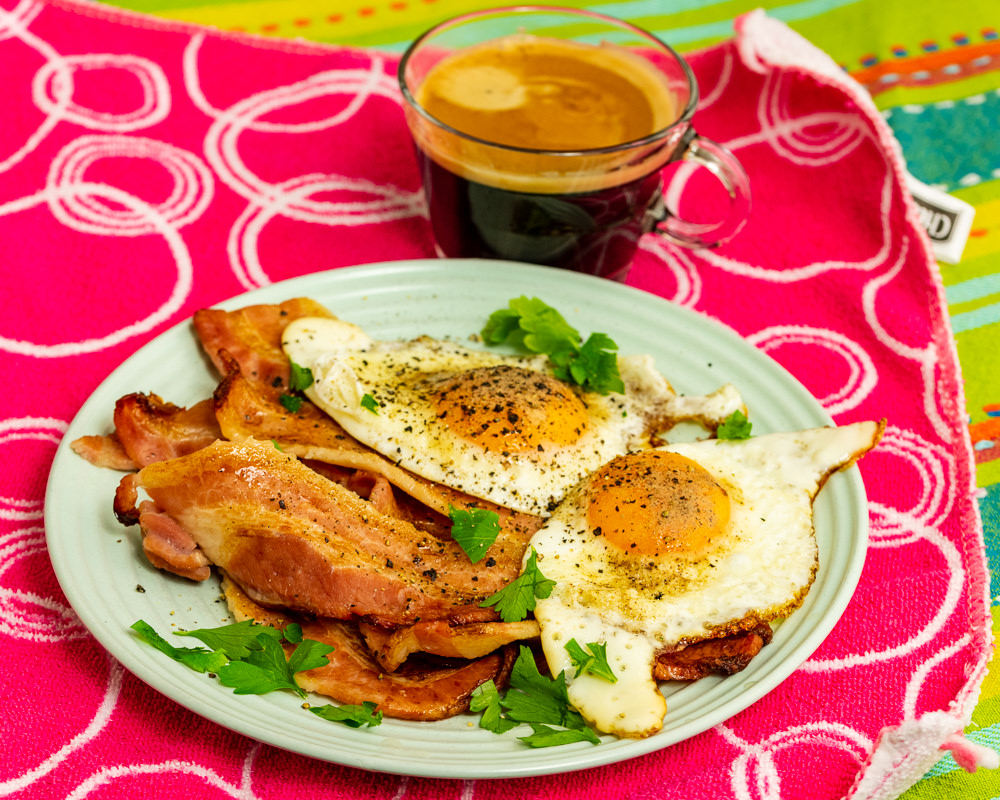fried egg: (337, 365, 785, 632)
